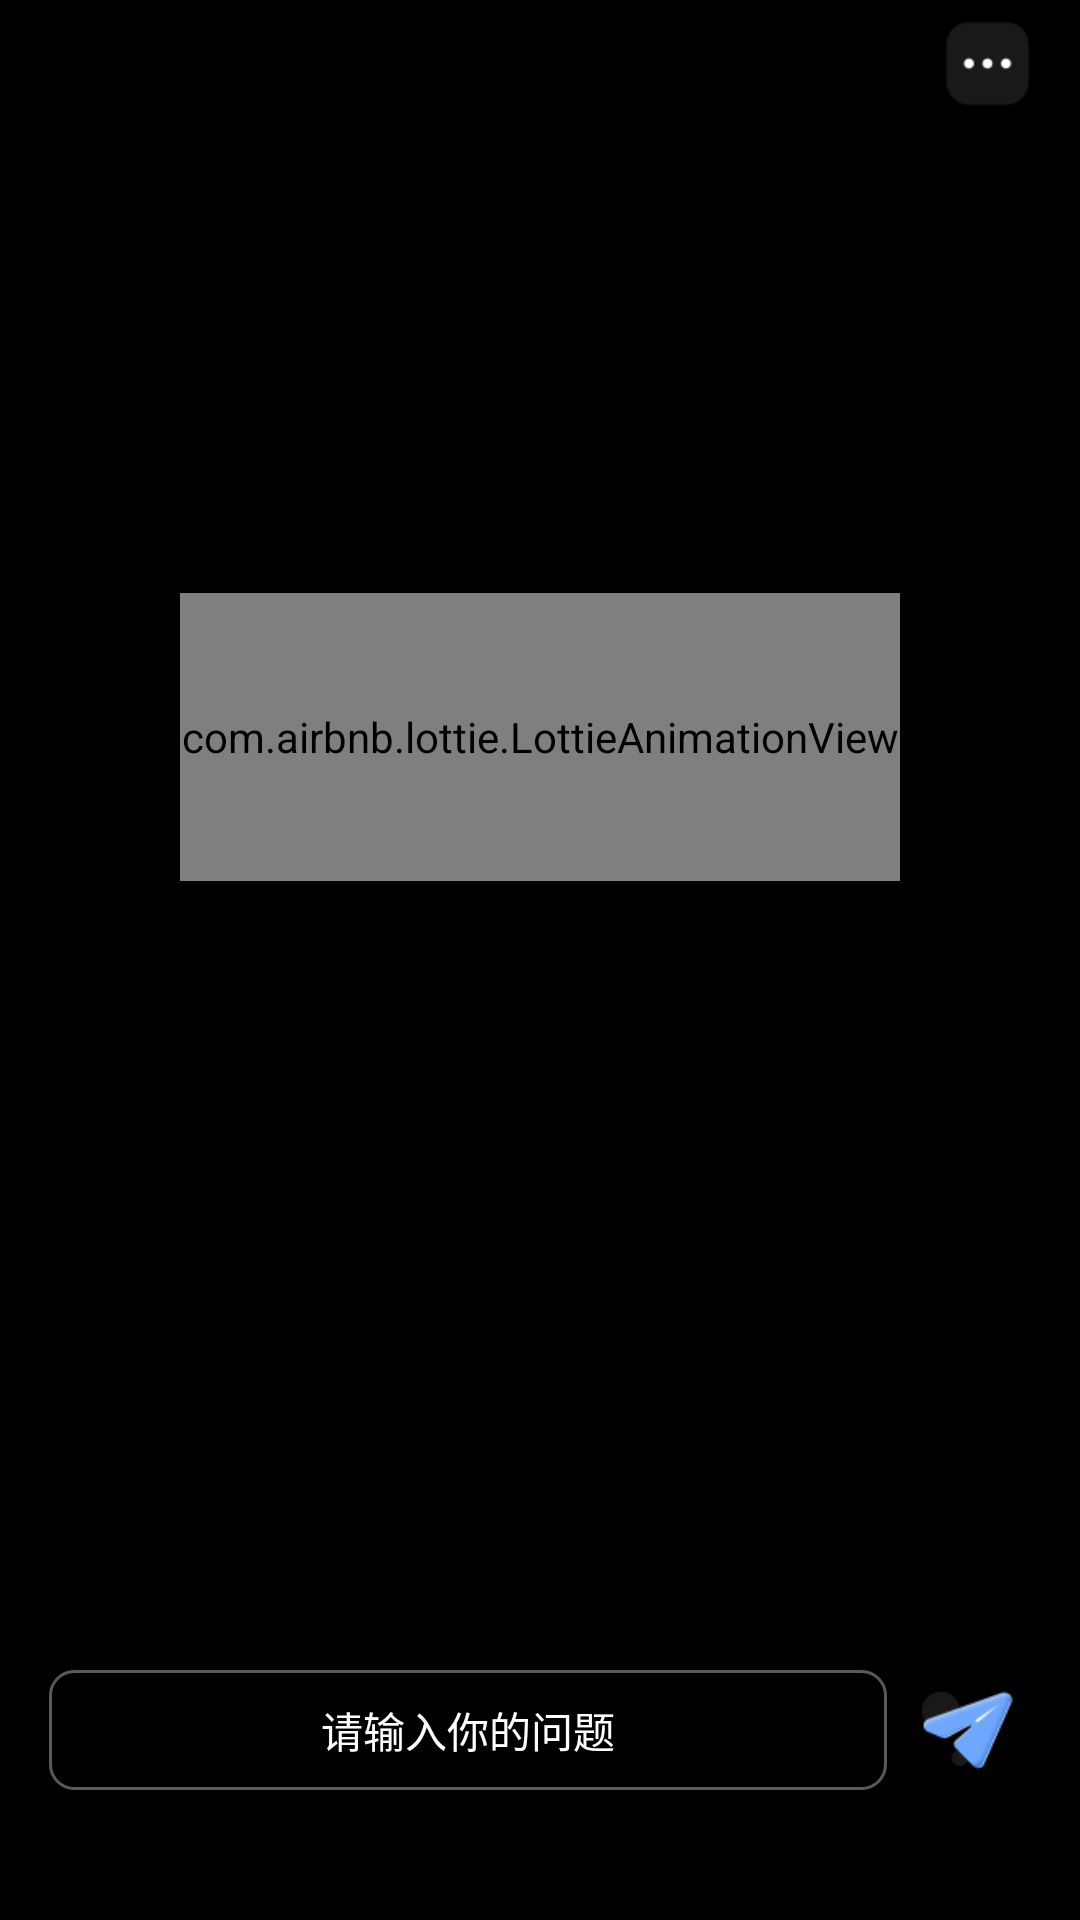

Screen size 1080*1920. Icon name, then its center in pixels as (x=x, y=y):
more square: (x=987, y=63)
send: (x=967, y=1730)
